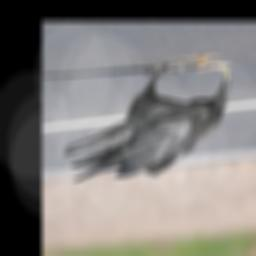Crow: (62, 65, 231, 181)
